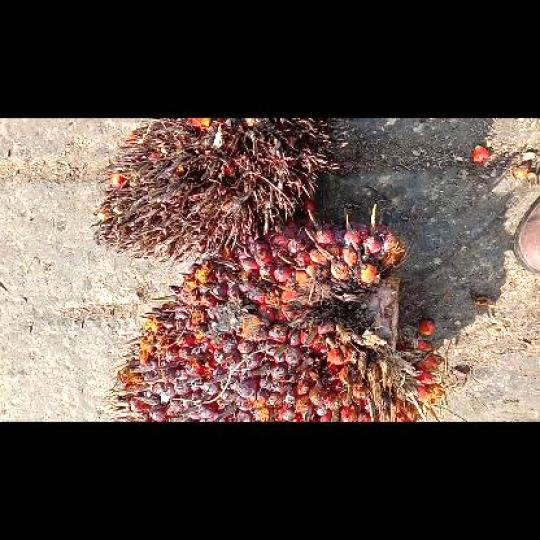masak: (106, 205, 442, 421)
terlalu masak: (91, 118, 337, 264)
